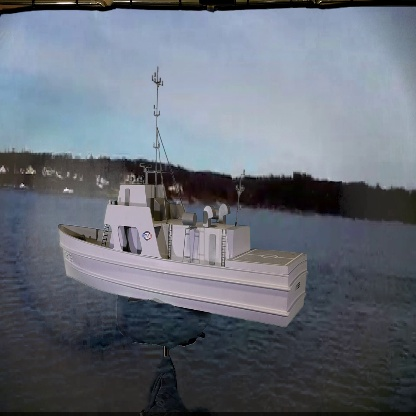YP689: (59, 69, 309, 329)
